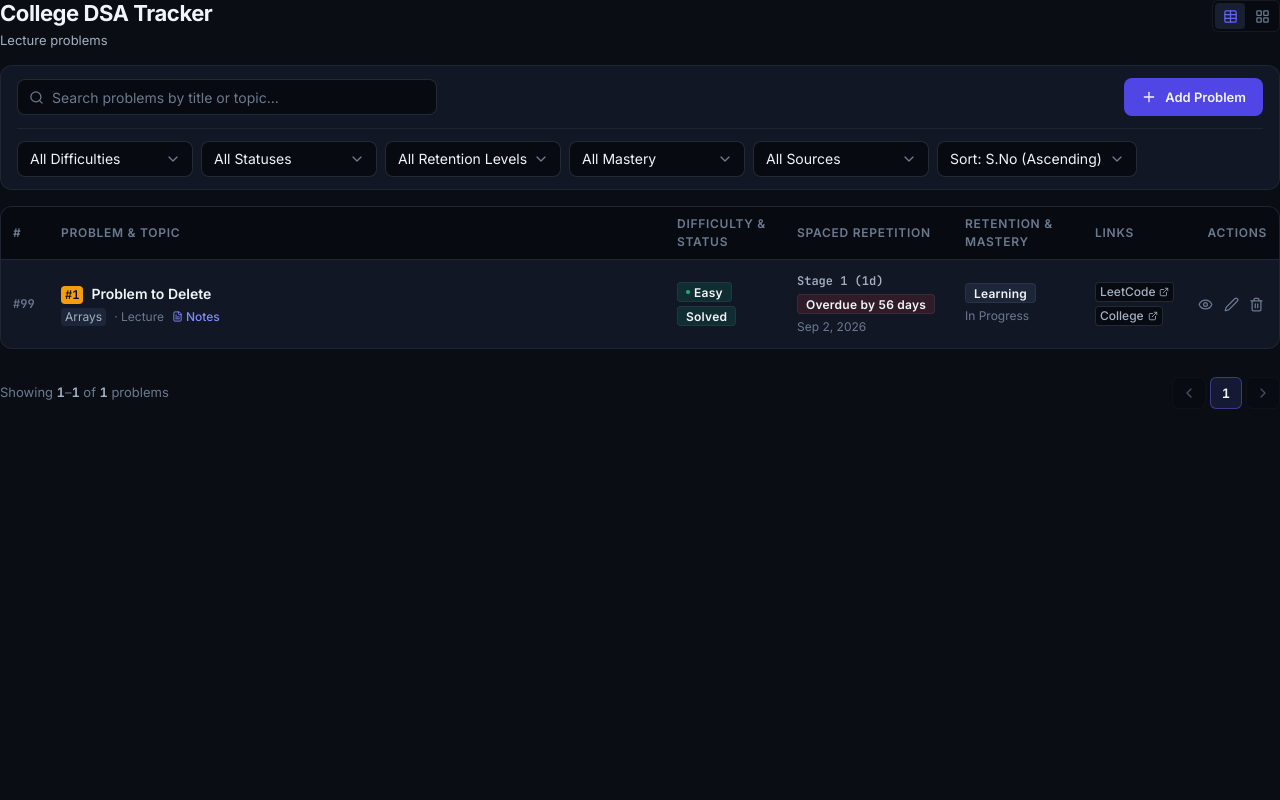
Shared Tracker Architecture (TrackerPage, CollegeDsaPage, PersonalDsaPage) › opens DeleteProblemDialog when user clicks delete in problem row
The width and height of the screenshot is (1280, 800).
Check: the link "Problem to Delete" is shown, box [91,282,211,304]
Click the button titled "delete problem" at [1256, 304], box [1246,290,1267,318]
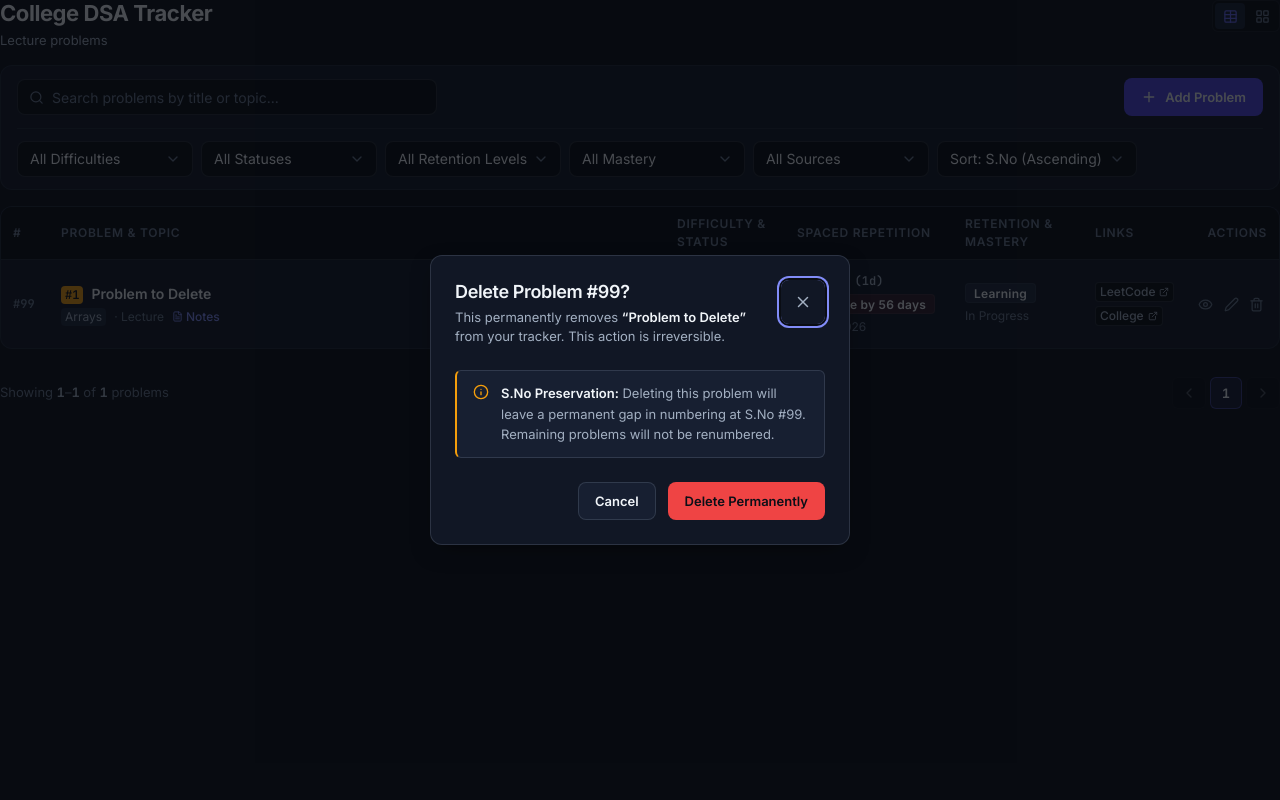
Check: the heading "Delete Problem #99?" is shown, box [455,281,630,302]
